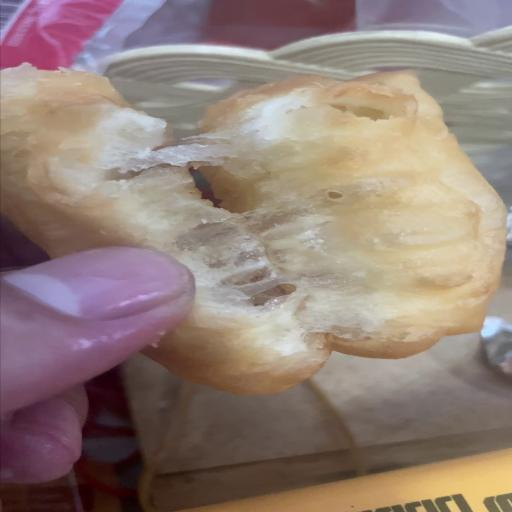street_golden_defect: (0, 67, 505, 365)
